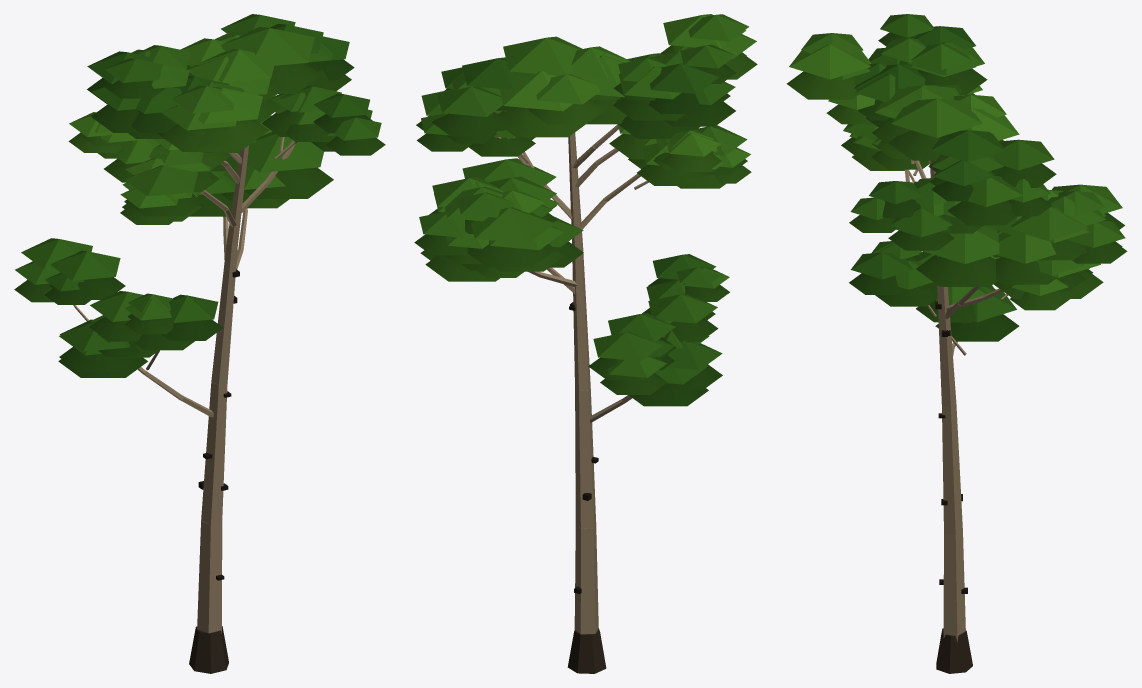
The model's file is tree_birch_2_mid.glb.
3 renders of one model, left to right at view 1: azimuth 30°, elevation 25°; view 2: azimuth 150°, elevation 25°; view 3: azimuth 270°, elevation 25°, orthographic. The views are drawn at different scales.
Visible parts, largest first — view 1: leaf, wood; view 2: leaf, wood; view 3: leaf, wood.
Part boxes in pixels (<box>): leaf: <box>14,14,385,377</box>; wood: <box>73,137,297,673</box>; leaf: <box>414,14,757,406</box>; wood: <box>494,124,648,673</box>; leaf: <box>786,14,1127,341</box>; wood: <box>905,159,1008,673</box>.
Bounding box in the file's own units: 4.86 × 10.4 × 5.3.
